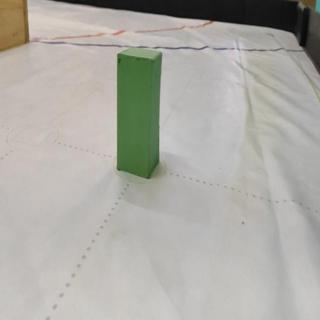greenbox: (113, 43, 164, 179)
